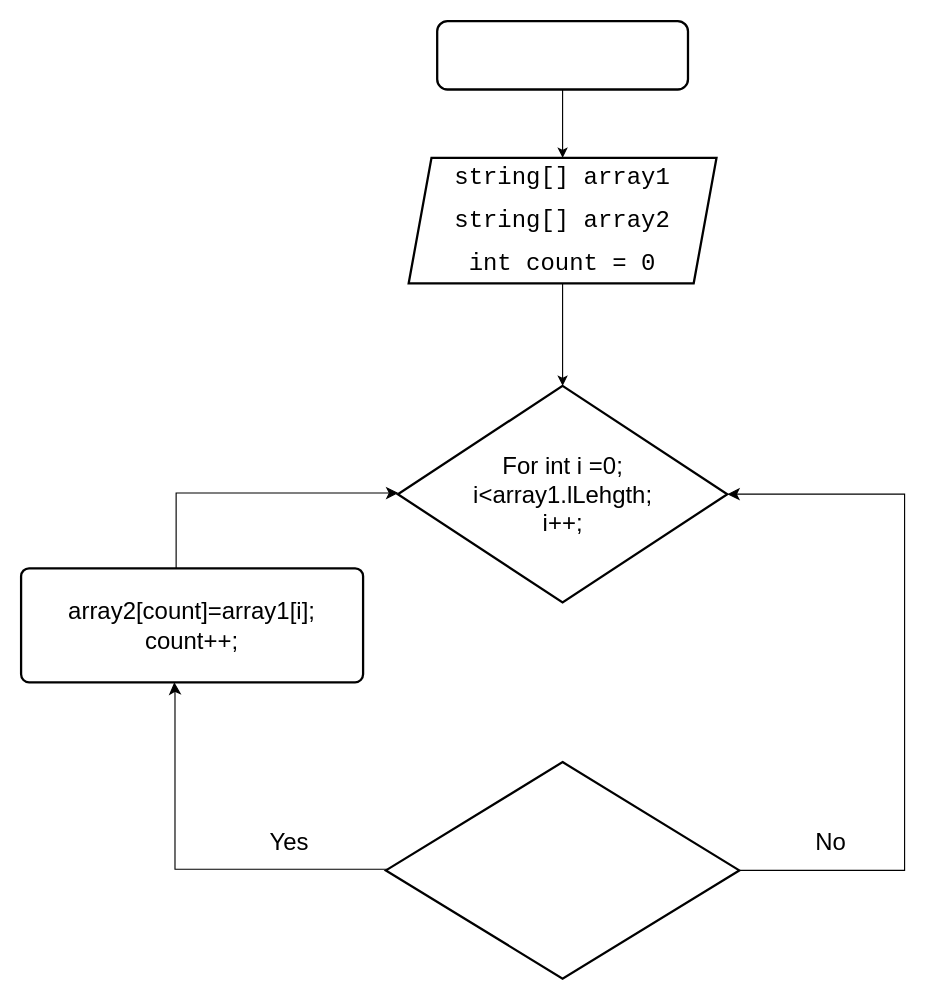
The diagram is 936 pixels wide and 999 high, and some of its shapes have lost their labels. Here are the shapes that lost their labels. From the top down, the centre of each, then its label:
At (562,54): "SecondArray".
At (562,869): "if (array[i]).Length<=3;".
